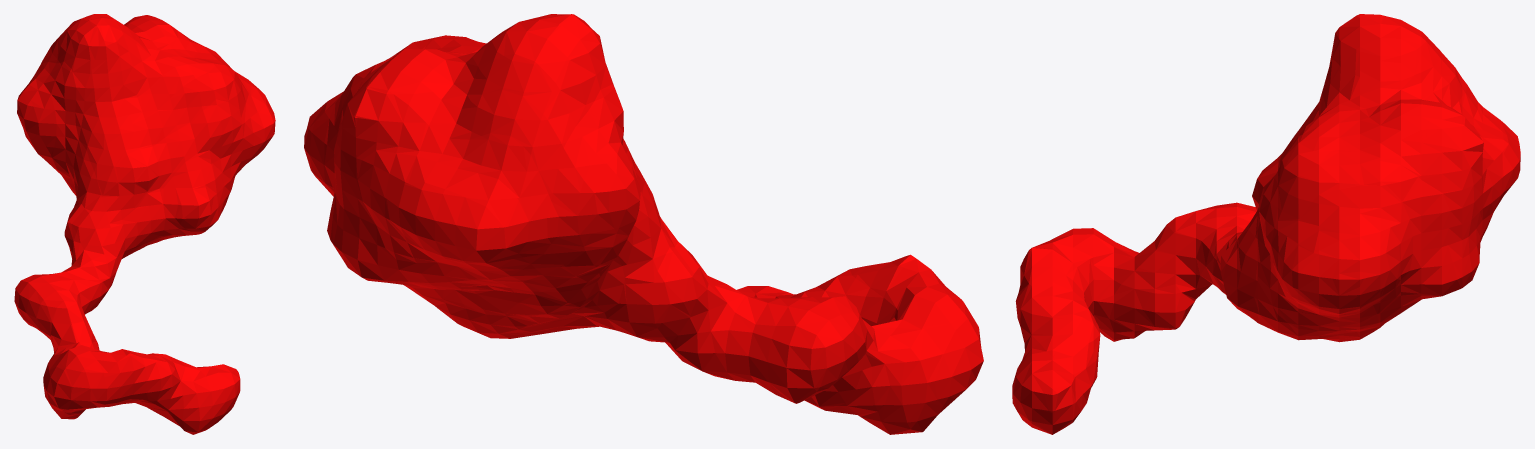
Rendered from hyaD_coarse.dae.
3 views of the same model, side by side, from view 1: azimuth 30°, elevation 25°; view 2: azimuth 150°, elevation 25°; view 3: azimuth 270°, elevation 25° (orthographic). The views are drawn at different scales.
Visible parts, largest first — view 1: hyaD; view 2: hyaD; view 3: hyaD.
Boxes of the visible parts, x1=… form: hyaD: x1=14, y1=14, x2=275, y2=434; hyaD: x1=304, y1=14, x2=983, y2=434; hyaD: x1=1012, y1=14, x2=1520, y2=434.
Size of the model in its own units: 68.38 by 65.08 by 70.93.
